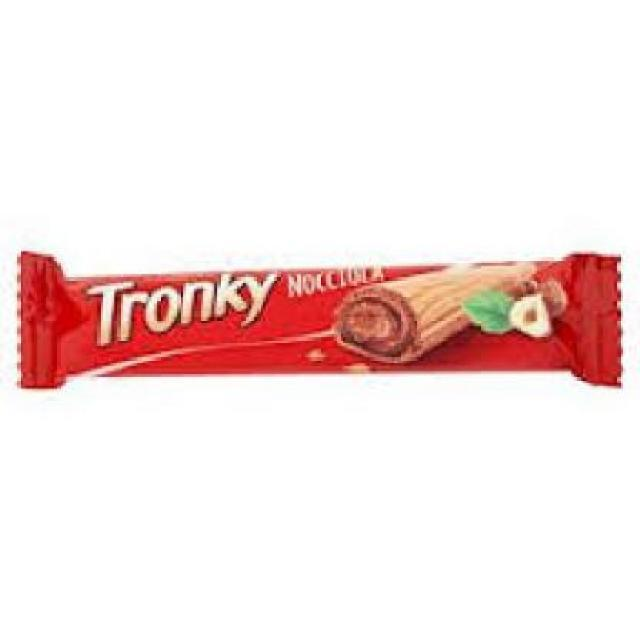Chocolate bar: (14, 246, 632, 392)
